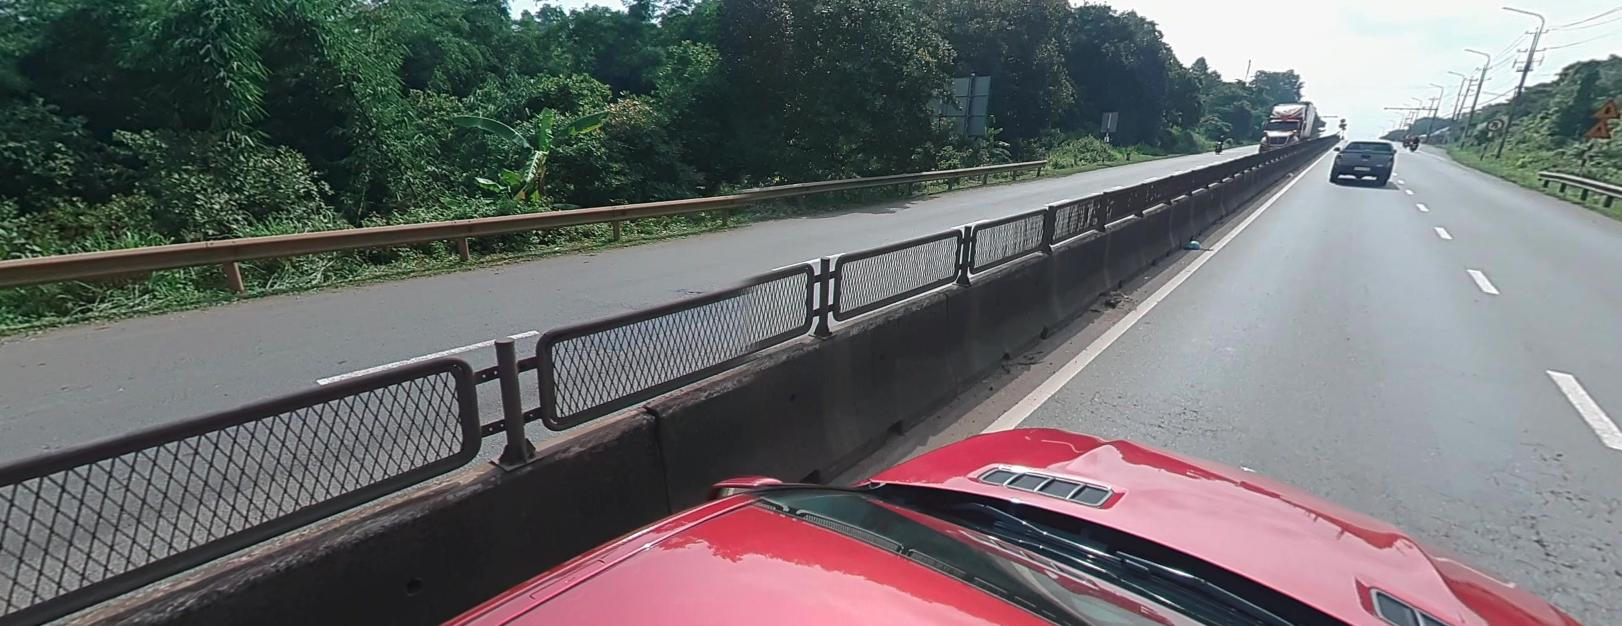Cam re: (1486, 117, 1504, 130)
Nguy hiem: (1581, 118, 1612, 138), (1589, 99, 1620, 117), (1592, 100, 1617, 117), (1586, 118, 1609, 136)
